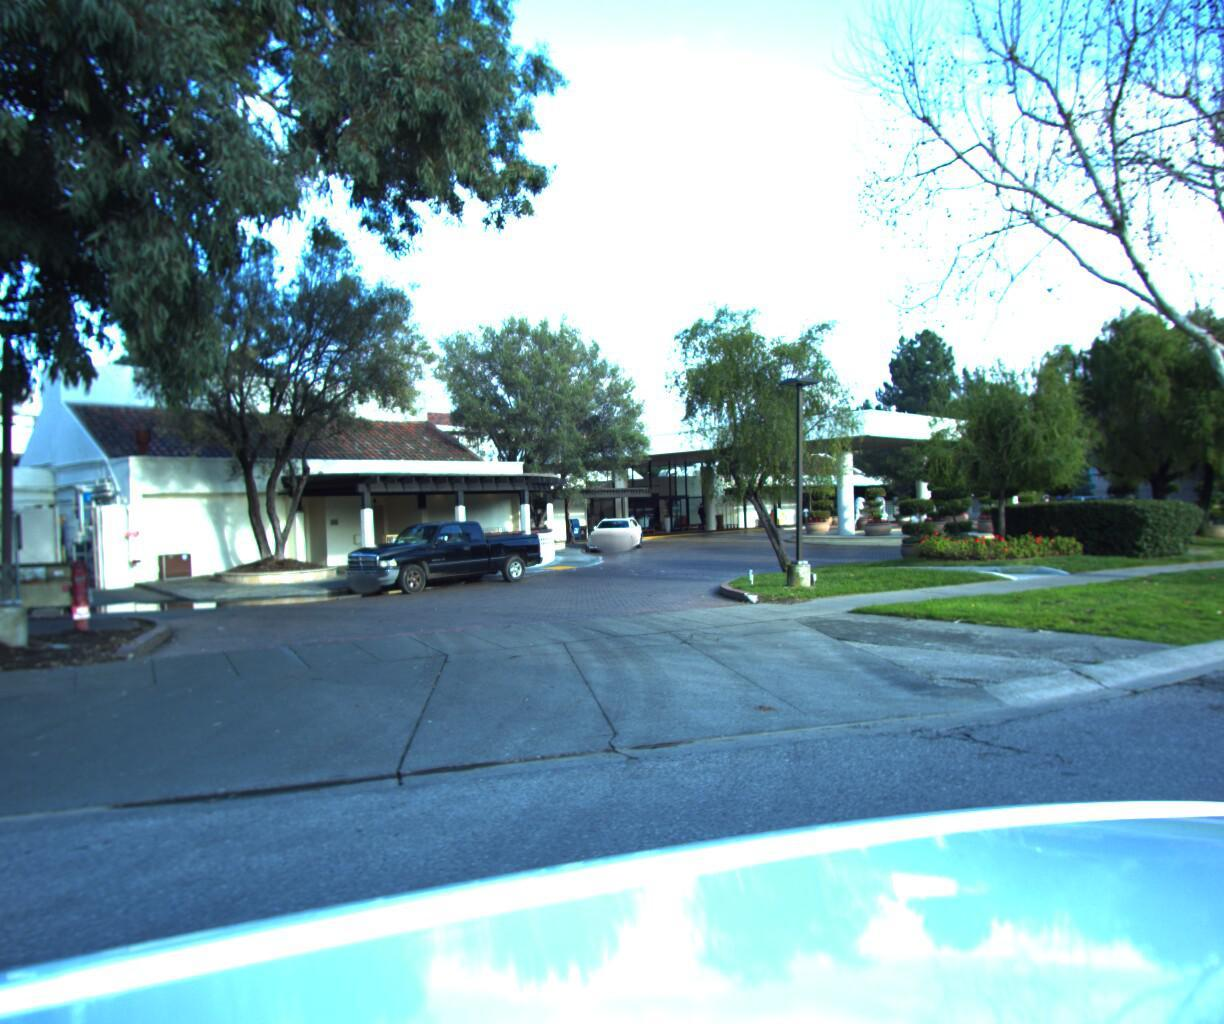car: (333, 514, 551, 599), (586, 511, 647, 550)
